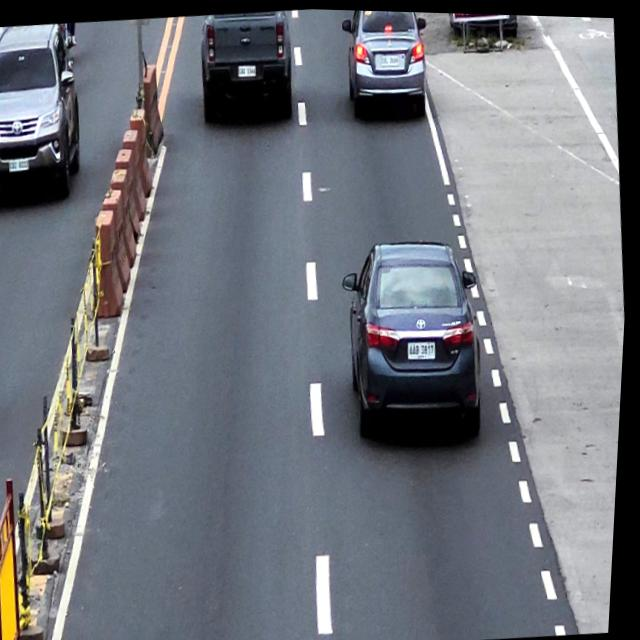Car: (337, 231, 496, 450), (194, 6, 299, 127), (336, 8, 434, 119)
License-Plate: (410, 336, 440, 358), (380, 51, 399, 65), (238, 63, 257, 76)
